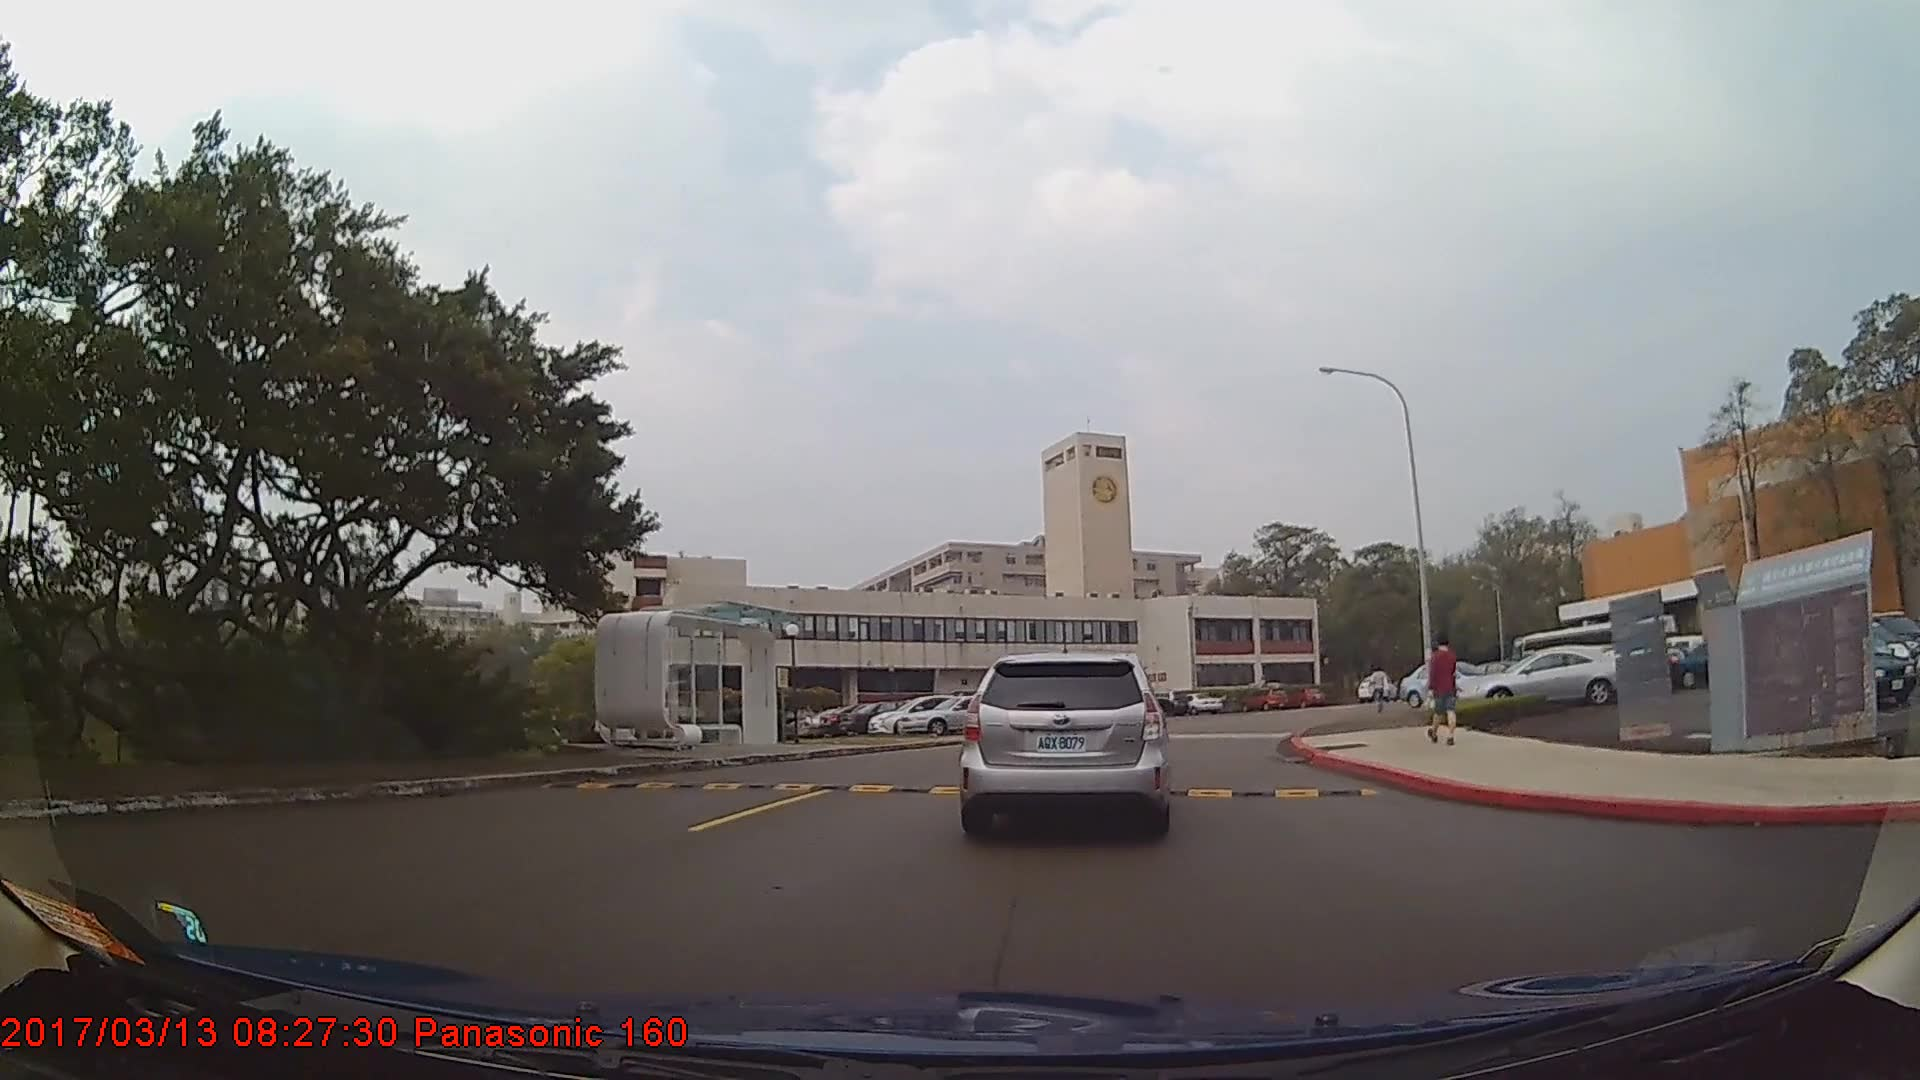pedestrian: (1426, 635, 1462, 752), (1367, 666, 1393, 715)
vehicle: (962, 650, 1165, 838), (1454, 645, 1632, 707), (896, 693, 1015, 733)
